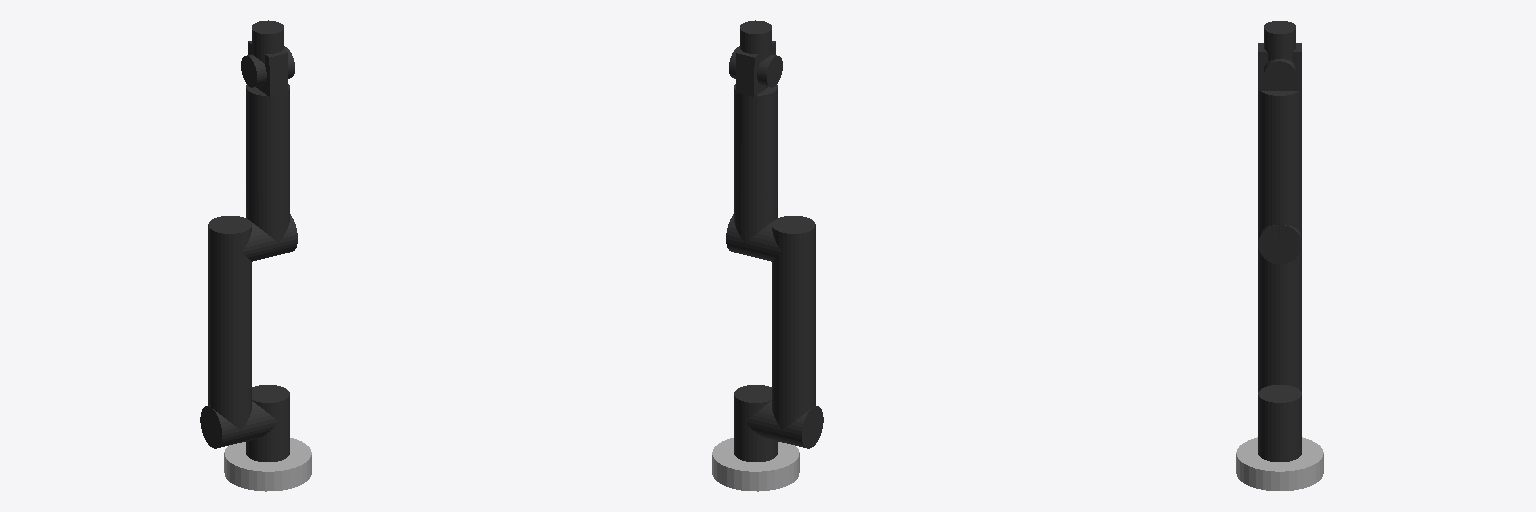
URDF robot description (two_dof_robot):
<?xml version="1.0"?>

<robot name="two_dof_robot">
    
    <material name="light_gray">
        <color rgba="0.73 0.73 0.73 1"/>
    </material>

    <material name="dark_gray">
        <color rgba="0.25 0.25 0.25 1"/>
    </material>

    <link name="world"/>
    <joint name="fixed_joint1" type="fixed">
        <parent link="world" />
        <child link="base_link" />
        <origin xyz="0 0 0" rpy="0 0 0"/>
    </joint>                                                                                           

    <link name="base_link">
        <visual>
            <geometry>
                    <cylinder length="0.2" radius="0.4"/>
            </geometry>
            <origin xyz="0 0 0.1" rpy="0 0 0"/>
            <material name="light_gray"/>
        </visual>
    </link>

    <joint name="joint_1" type="revolute">
        <parent link="base_link" />
        <child link="link_1" />
        <origin  rpy="0 0 0" xyz="0 0 0.2"/>
        <axis xyz="0 0 1"/>
        <limit lower="-3.14" upper="3.14" effort="10" velocity="1" />
    </joint>

    <link name="link_1">
        <visual>
            <geometry>
                    <cylinder length="0.6" radius="0.2"/>
            </geometry>
            <origin xyz="0 0 0.3" rpy="0 0 0"/>
            <material name="dark_gray"/>
        </visual>
    </link>

    <joint name="fixed_joint2" type="fixed">
        <parent link="link_1" />
        <child link="fixed_link2" />
        <origin  rpy="0 -1.57 0" xyz="0 0 0.4"/>
        <axis xyz="0 0 1"/>
    </joint>

    <link name="fixed_link2">
        <visual>
            <geometry>
                    <cylinder length="0.6" radius="0.2"/>
            </geometry>
            <origin xyz="0 0 0.3" rpy="0 0 0"/>
            <material name="dark_gray"/>
        </visual>
    </link>

    <joint name="joint_2" type="revolute">
        <parent link="fixed_link2" />
        <child link="link_2" />
        <origin rpy="0 0 0" xyz="0 0 0.4"/>
        <axis xyz="0 0 1"/>
        <limit lower="-1.57" upper="1.57" effort="10" velocity="1" />
    </joint>

    <link name="link_2">
        <visual>
            <geometry>
                    <cylinder length="2.0" radius="0.2"/>
            </geometry>
            <origin xyz="1.0 0 0" rpy="0 1.57 0"/>
            <material name="dark_gray"/>
        </visual>
    </link>

     <joint name="fixed_joint3" type="fixed">
        <parent link="link_2" />
        <child link="fixed_link3" />
        <origin rpy="0 1.57 0" xyz="1.8 0 0"/>
        <axis xyz="0 0 1"/>
        <limit lower="-1.57" upper="1.57" effort="10" velocity="1" />
    </joint>

    <link name="fixed_link3">
        <visual>
            <geometry>
                    <cylinder length="0.6" radius="0.2"/>
            </geometry>
            <origin xyz="0.3 0 0" rpy="0 1.57 0"/>
            <material name="dark_gray"/>
        </visual>
    </link>

    <joint name="joint_3" type="revolute">
        <parent link="fixed_link3" />
        <child link="link_3" />
        <origin rpy="0 1.57 0" xyz="0.4 0 0"/>
        <axis xyz="0 0 1"/>
        <limit lower="-1.57" upper="1.57" effort="10" velocity="1" />
    </joint>

    <link name="link_3">
        <visual>
            <geometry>
                    <cylinder length="1.5" radius="0.2"/>
            </geometry>
            <origin xyz="-0.75 0 0" rpy="0 1.57 0"/>
            <material name="dark_gray"/>
        </visual>
    </link>


    <joint name="joint_4" type="revolute">
        <parent link="link_3" />
        <child link="link_4" />
        <origin rpy="0 1.57 0" xyz="-1.7 0 0"/>
        <axis xyz="0 0 1"/>
        <limit lower="-1.57" upper="1.57" effort="10" velocity="1" />
    </joint>

    <link name="link_4">
        <visual>
            <geometry>
                     <box size="0.2 0.4 0.4"/>
            </geometry>
            <origin xyz="0 0 0" rpy="0 0 0"/>
            <material name="dark_gray"/>
        </visual>
    </link>

    <joint name="joint_5" type="revolute">
        <parent link="link_4" />
        <child link="link_5" />
        <origin rpy="0 1.57 0" xyz="0 0 0"/>
        <axis xyz="0 0 1"/>
        <limit lower="-1.57" upper="1.57" effort="10" velocity="1" />
    </joint>

    <link name="link_5">
        <visual>
            <geometry>
                    <cylinder length="0.4" radius="0.15"/>
            </geometry>
            <origin xyz="0 0 0" rpy="0 0 0"/>
            <material name="dark_gray"/>
        </visual>
    </link>

    <joint name="joint_6" type="revolute">
        <parent link="link_5" />
        <child link="link_6" />
        <origin rpy="0 1.57 0" xyz="0 0 0"/>
        <axis xyz="0 0 1"/>
        <limit lower="-1.57" upper="1.57" effort="10" velocity="1" />
    </joint>

    <link name="link_6">
        <visual>
            <geometry>
                    <cylinder length="0.4" radius="0.15"/>
            </geometry>
            <origin xyz="0 0 0.2" rpy="0 0 0"/>
            <material name="dark_gray"/>
        </visual>
    </link>

    
    <joint name="tool_joint" type="fixed">
    <parent link="link_6"/>
    <child link="tool0"/>
    <origin rpy="0 0 0" xyz="0 0 0.4"/>
    <axis xyz="0 0 1"/>
    </joint>

    <link name="tool0"/>

     <ros2_control name="GazeboSystem" type="system">
   
    <hardware>
      <plugin>gz_ros2_control/GazeboSimSystem</plugin>
    </hardware>
 
    <joint name="joint_1">
      <command_interface name="position"/>
      <command_interface name="velocity"/>
      <command_interface name="effort"/>
      <state_interface name="position">
        <!-- initial position for the mock system and simulation -->
        <param name="initial_value">1.5708</param>
      </state_interface>
      <state_interface name="velocity">
        <param name="initial_value">0.0</param>
      </state_interface>
      <state_interface name="effort">
        <param name="initial_value">0.0</param>
      </state_interface>
    </joint>
    <joint name="joint_2">
      <command_interface name="position"/>
      <command_interface name="velocity"/>
      <command_interface name="effort"/>
      <state_interface name="position">
        <!-- initial position for the mock system and simulation -->
        <param name="initial_value">-1.5708</param>
      </state_interface>
      <state_interface name="velocity">
        <param name="initial_value">0.0</param>
      </state_interface>
      <state_interface name="effort">
        <param name="initial_value">0.0</param>
      </state_interface>
    </joint>
    <joint name="joint_3">
      <command_interface name="position"/>
      <command_interface name="velocity"/>
      <command_interface name="effort"/>
      <state_interface name="position">
        <!-- initial position for the mock system and simulation -->
        <param name="initial_value">1.5708</param>
      </state_interface>
      <state_interface name="velocity">
        <param name="initial_value">0.0</param>
      </state_interface>
      <state_interface name="effort">
        <param name="initial_value">0.0</param>
      </state_interface>
    </joint>
    <joint name="joint_4">
      <command_interface name="position"/>
      <command_interface name="velocity"/>
      <command_interface name="effort"/>
      <state_interface name="position">
        <!-- initial position for the mock system and simulation -->
        <param name="initial_value">-1.57</param>
      </state_interface>
      <state_interface name="velocity">
        <param name="initial_value">0.0</param>
      </state_interface>
      <state_interface name="effort">
        <param name="initial_value">0.0</param>
      </state_interface>
    </joint>
    <joint name="joint_5">
      <command_interface name="position"/>
      <command_interface name="velocity"/>
      <command_interface name="effort"/>
      <state_interface name="position">
        <!-- initial position for the mock system and simulation -->
        <param name="initial_value">-1.5708</param>
      </state_interface>
      <state_interface name="velocity">
        <param name="initial_value">0.0</param>
      </state_interface>
      <state_interface name="effort">
        <param name="initial_value">0.0</param>
      </state_interface>
    </joint>
    <joint name="joint_6">
      <command_interface name="position"/>
      <command_interface name="velocity"/>
      <command_interface name="effort"/>
      <state_interface name="position">
        <!-- initial position for the mock system and simulation -->
        <param name="initial_value">0.0</param>
      </state_interface>
      <state_interface name="velocity">
        <param name="initial_value">0.0</param>
      </state_interface>
      <state_interface name="effort">
        <param name="initial_value">0.0</param>
      </state_interface>
    </joint>
    <sensor name="tcp_fts_sensor">
      <state_interface name="force.x"/>
      <state_interface name="force.y"/>
      <state_interface name="force.z"/>
      <state_interface name="torque.x"/>
      <state_interface name="torque.y"/>
      <state_interface name="torque.z"/>
    </sensor>
    <sensor name="tcp_pose">
      <state_interface name="position.x"/>
      <state_interface name="position.y"/>
      <state_interface name="position.z"/>
      <state_interface name="orientation.x"/>
      <state_interface name="orientation.y"/>
      <state_interface name="orientation.z"/>
      <state_interface name="orientation.w"/>
    </sensor>
  </ros2_control>
    <gazebo>
      <plugin filename="gz_ros2_control-system"
              name="gz_ros2_control::GazeboSimROS2ControlPlugin">
        <parameters>CONTROLLERS_YAML_PATH</parameters>
      </plugin>
    </gazebo>

</robot>

--- Render facts (derived) ---
The picture shows the robot from 3 angles, left to right: view 1: azimuth 30°, elevation 25°; view 2: azimuth 150°, elevation 25°; view 3: azimuth 270°, elevation 25°; orthographic projection.
Model two_dof_robot with 11 links and 10 joints (6 revolute, 4 fixed), rooted at world, posed every joint at zero.
Visible links, largest first — view 1: link_2, link_3, base_link, link_1, fixed_link2, fixed_link3, link_6, link_4, link_5; view 2: link_2, link_3, base_link, link_1, fixed_link2, fixed_link3, link_6, link_4, link_5; view 3: link_3, link_2, link_1, base_link, fixed_link3, link_6, link_5, link_4.
Link boxes in pixels (x1,y1,x2,y2): link_2: (208, 216, 251, 429); link_3: (246, 84, 289, 242); base_link: (224, 438, 311, 491); link_1: (246, 385, 289, 461); fixed_link2: (200, 401, 278, 448); fixed_link3: (241, 214, 297, 261); link_6: (252, 20, 283, 63); link_4: (248, 41, 287, 96); link_5: (241, 46, 294, 87); link_2: (772, 216, 815, 429); link_3: (734, 84, 777, 242); base_link: (712, 438, 799, 491); link_1: (734, 385, 777, 461); fixed_link2: (745, 401, 823, 448); fixed_link3: (726, 214, 782, 261); link_6: (740, 20, 771, 63); link_4: (736, 41, 775, 96); link_5: (729, 46, 782, 87); link_3: (1258, 91, 1301, 244); link_2: (1258, 248, 1301, 391); link_1: (1258, 385, 1301, 461); base_link: (1236, 437, 1323, 490); fixed_link3: (1258, 225, 1301, 263); link_6: (1264, 21, 1295, 60); link_5: (1264, 59, 1295, 90); link_4: (1258, 43, 1301, 90).
Bounding box of the posed robot: 1 × 0.8 × 4.5 m (x, y, z).
Geometry: primitives only (box / cylinder / sphere), no mesh files.
